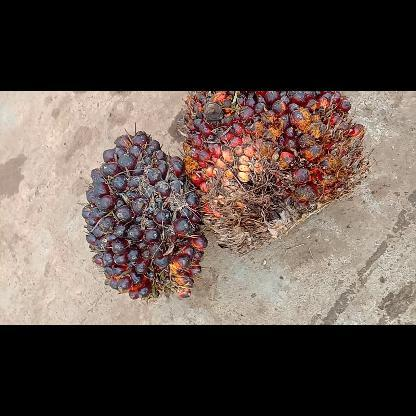TBS masak: (177, 90, 369, 254)
TBS mentah: (82, 124, 206, 298)
